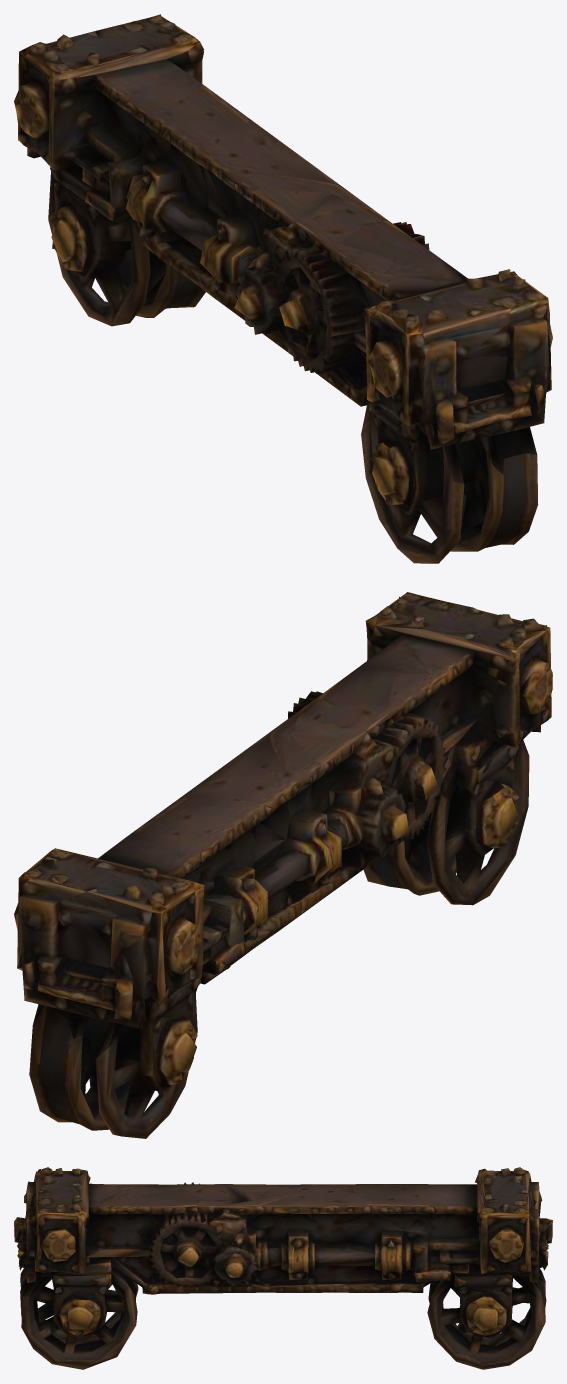
Rendered from endtruck.glb.
The picture shows the model from 3 angles, top to bottom: view 1: azimuth 30°, elevation 25°; view 2: azimuth 150°, elevation 25°; view 3: azimuth 270°, elevation 25°; orthographic projection. The views are drawn at different scales.
Visible parts, largest first — view 1: endtruck; view 2: endtruck; view 3: endtruck.
Part boxes in pixels (x1,y1,x2,y2): endtruck: (14, 14, 552, 563); endtruck: (14, 592, 552, 1138); endtruck: (14, 1167, 552, 1369).
Bounding box in the file's own units: 0.6823 × 1.05 × 3.
Materials: 1 (1 with a texture image).
